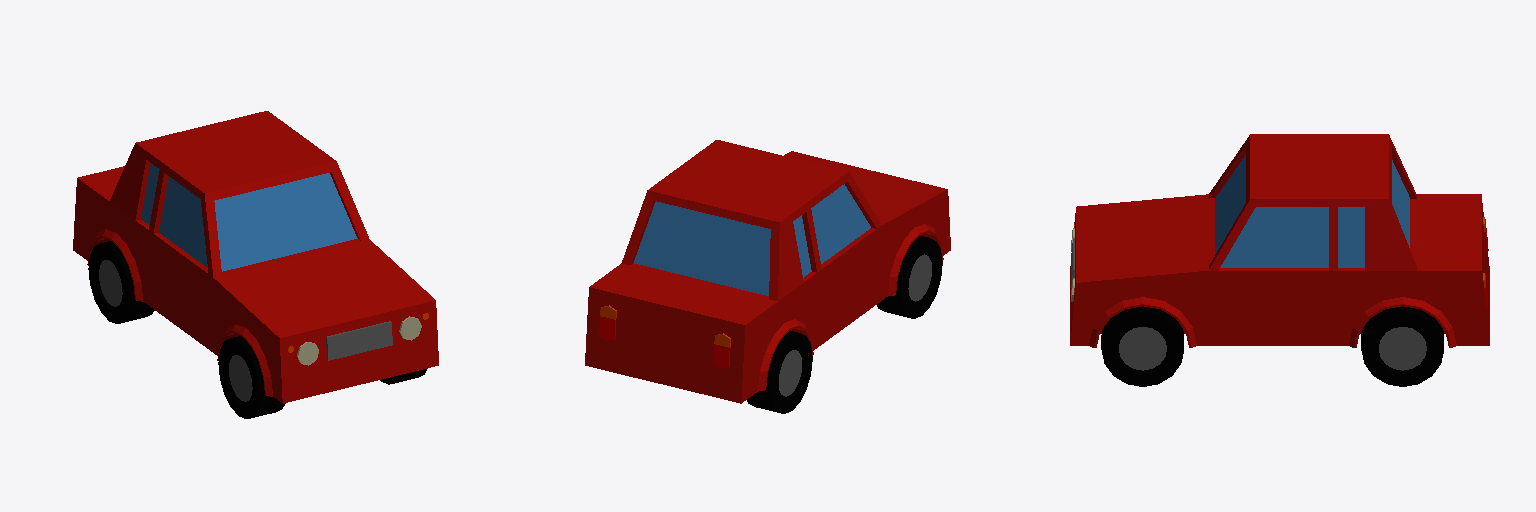
File: car-normal-red.obj
The picture shows the model from 3 angles: view 1: azimuth 30°, elevation 25°; view 2: azimuth 150°, elevation 25°; view 3: azimuth 270°, elevation 25°; orthographic projection.
Parts seen in each view (by area): view 1: car-normal-red_Cube.623; view 2: car-normal-red_Cube.623; view 3: car-normal-red_Cube.623.
Boxes of the visible parts, x1,y1,x2,y2 form: car-normal-red_Cube.623: [73, 111, 438, 418]; car-normal-red_Cube.623: [585, 140, 950, 413]; car-normal-red_Cube.623: [1070, 134, 1489, 386].
Bounding box in the file's own units: 0.854 × 0.855 × 1.82.